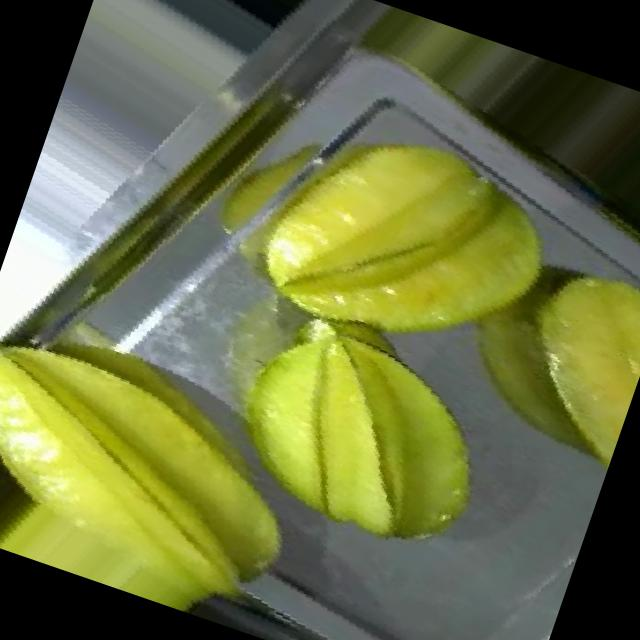fruit: (184, 55, 613, 449), (162, 257, 548, 608), (0, 282, 351, 640), (454, 218, 640, 503)
